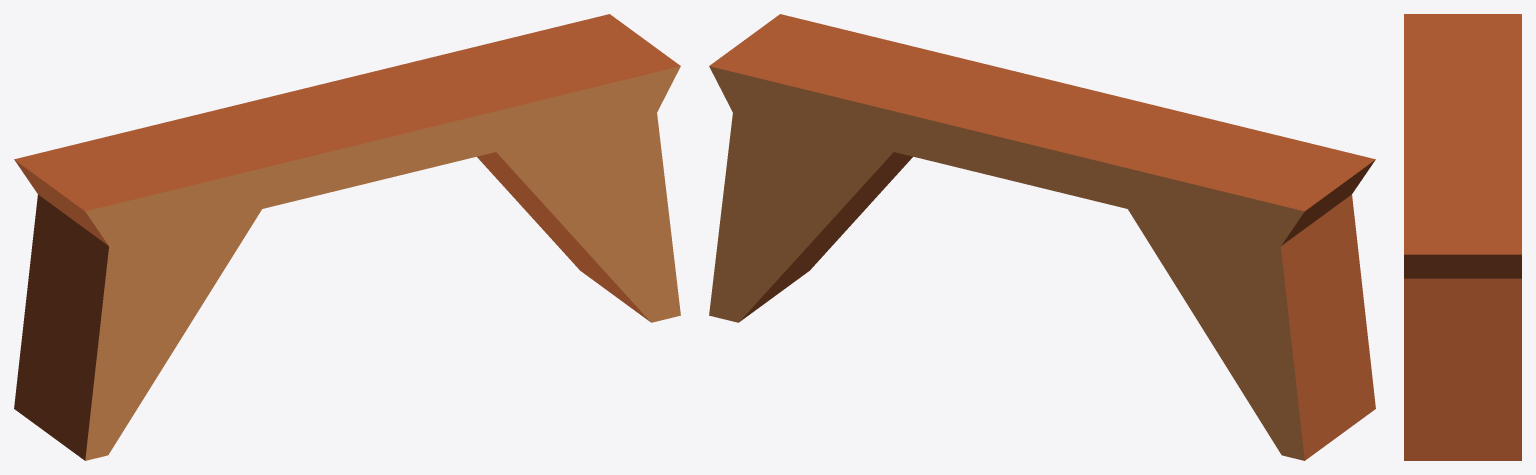
The model's file is SmallInsideTable.fbx.
3 views of the same model, side by side, from view 1: azimuth 30°, elevation 25°; view 2: azimuth 150°, elevation 25°; view 3: azimuth 270°, elevation 25° (orthographic). The views are drawn at different scales.
Parts seen in each view (by area): view 1: SmallInsideTable; view 2: SmallInsideTable; view 3: SmallInsideTable.
Part boxes in pixels (x1=…): SmallInsideTable: x1=14, y1=14, x2=680, y2=460; SmallInsideTable: x1=709, y1=14, x2=1375, y2=460; SmallInsideTable: x1=1404, y1=14, x2=1521, y2=460.
Size of the model in its own units: 2.25 by 0.9016 by 0.4663.
